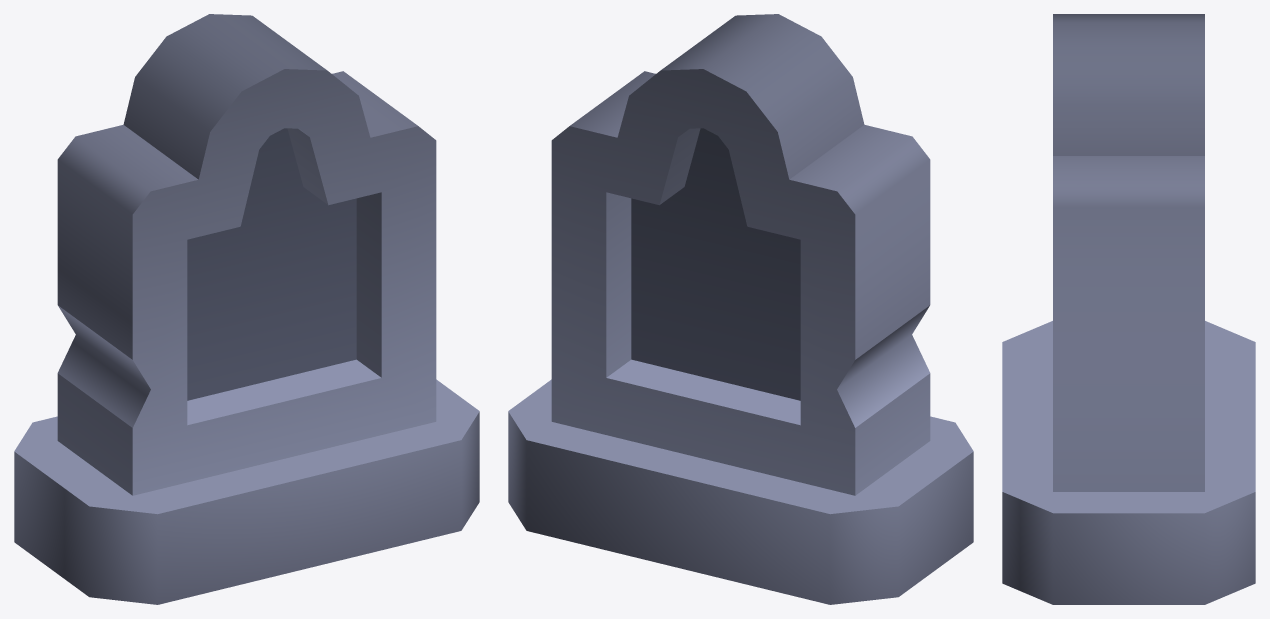
Rendered from K_gravestone-bevel.glb.
3 views of the same model, side by side, from view 1: azimuth 30°, elevation 25°; view 2: azimuth 150°, elevation 25°; view 3: azimuth 270°, elevation 25° (orthographic).
Parts seen in each view (by area): view 1: gravestone-bevel; view 2: gravestone-bevel; view 3: gravestone-bevel.
Part boxes in pixels (box(x1,y1,x2,y2)): gravestone-bevel: box(14, 14, 479, 604); gravestone-bevel: box(508, 14, 973, 604); gravestone-bevel: box(1002, 14, 1255, 604).
Size of the model in its own units: 0.45 by 0.5293 by 0.25.
